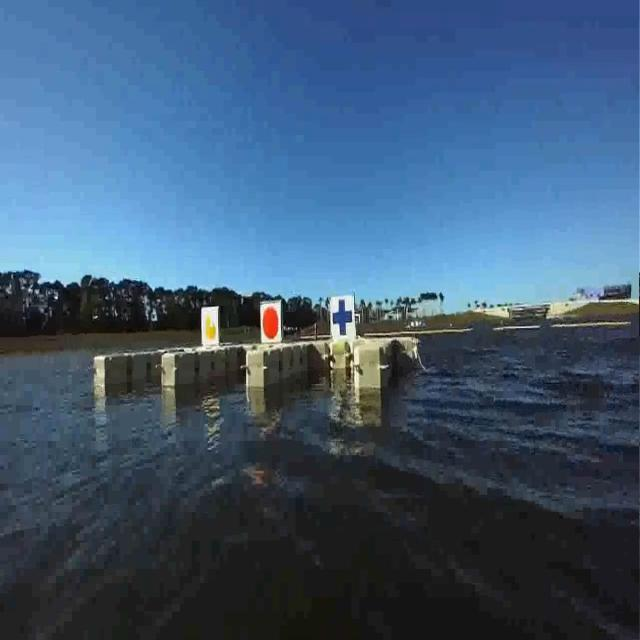blue-cross: (327, 294, 358, 340)
red-dot: (257, 298, 284, 348)
yellow-duck: (200, 301, 220, 352)
